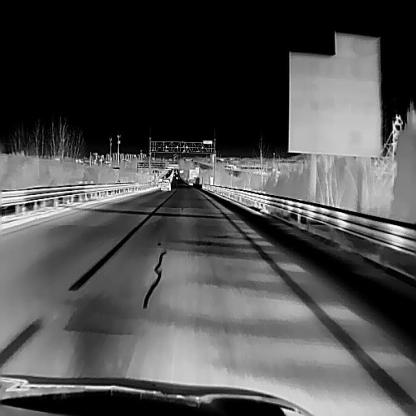car: (159, 177, 170, 190)
